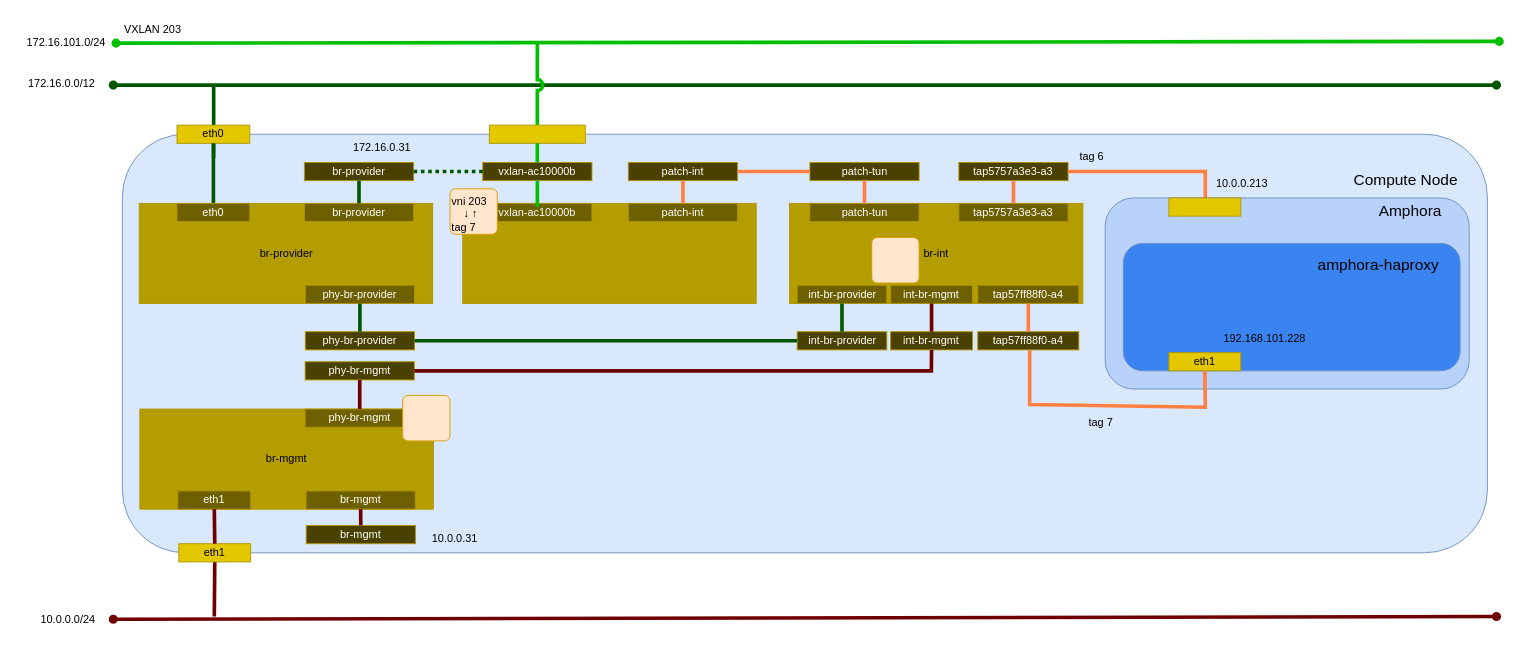
Image size: 1524x649. Some labels were removed from this diagram. The shapes that lost their labels are listed below. From the top down, each one's box as (x1, y1, x2, y2) in pixels, then its label:
(488, 124, 585, 143): vxlan_sys_4789
(1168, 197, 1241, 216): ens3
(462, 202, 756, 303): br-tun
(871, 237, 919, 283): tag 6 ↑ tag なし
(402, 394, 450, 441): tag 6 ↓ tag なし
